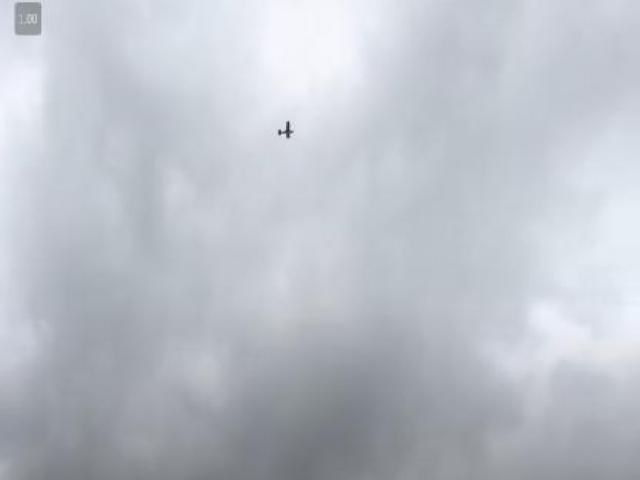uav: (275, 118, 296, 144)
